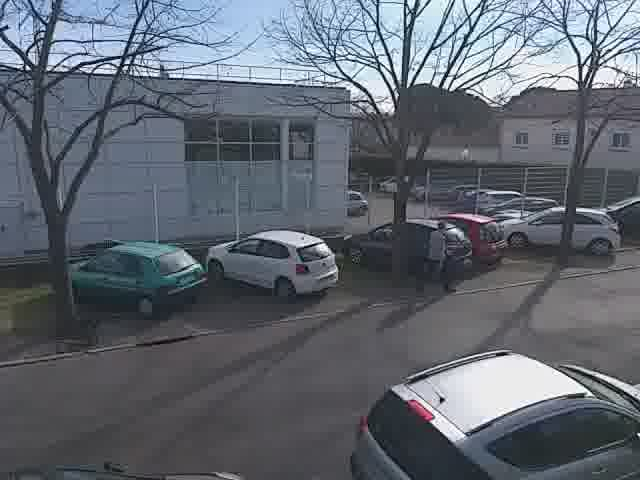persona: (419, 212, 457, 297)
